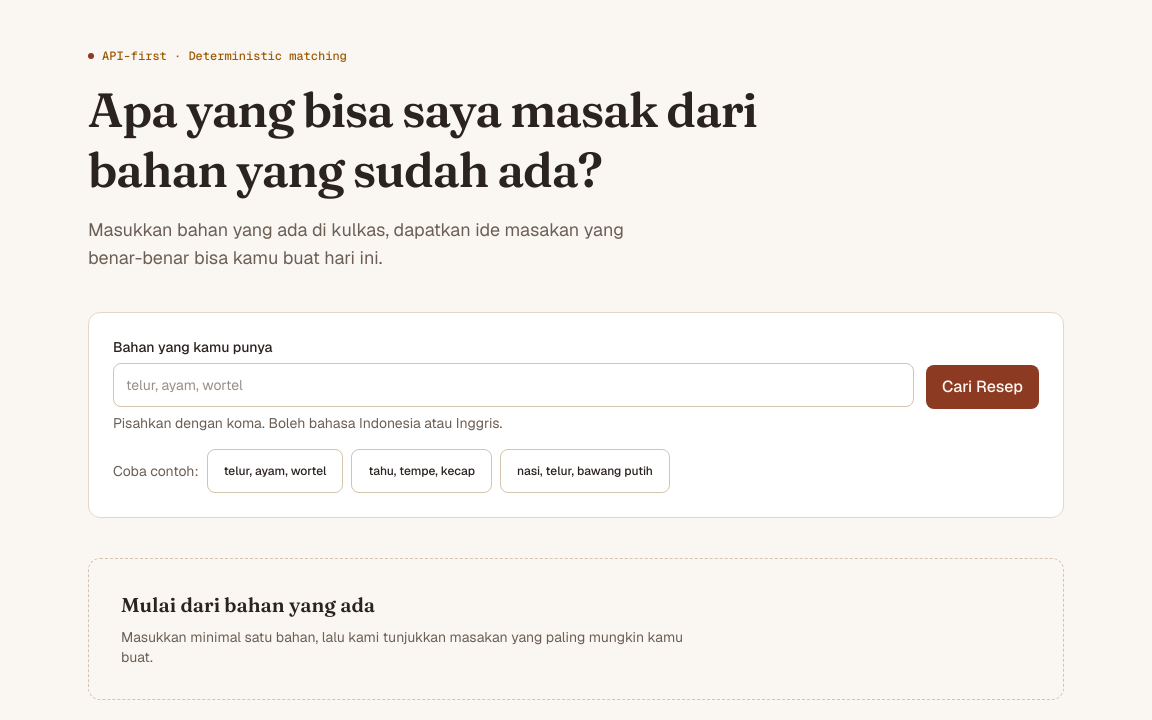
Test: Halaman utama › error state muncul saat request gagal, retry mengulang request
The width and height of the screenshot is (1152, 720).
Type "telur, ayam" into the field labelled "Bahan yang kamu punya" at [513, 385], box [113,363,914,407]
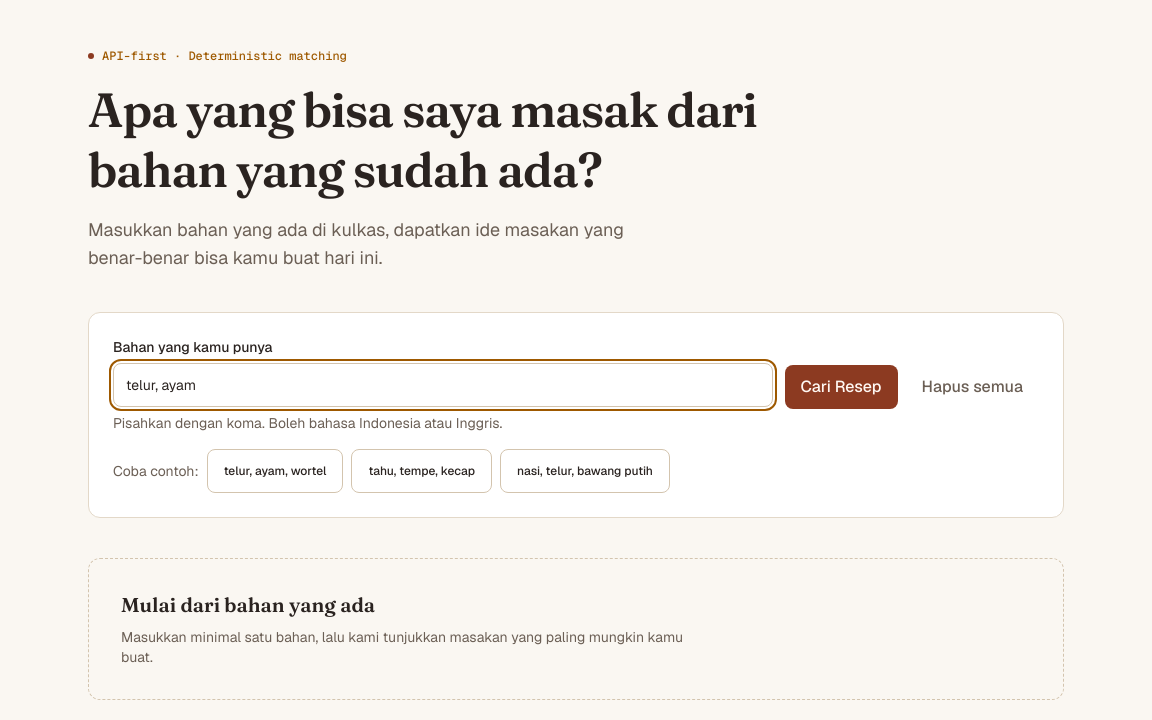
Click the button "Cari Resep" at [841, 387], box [784,365,898,409]
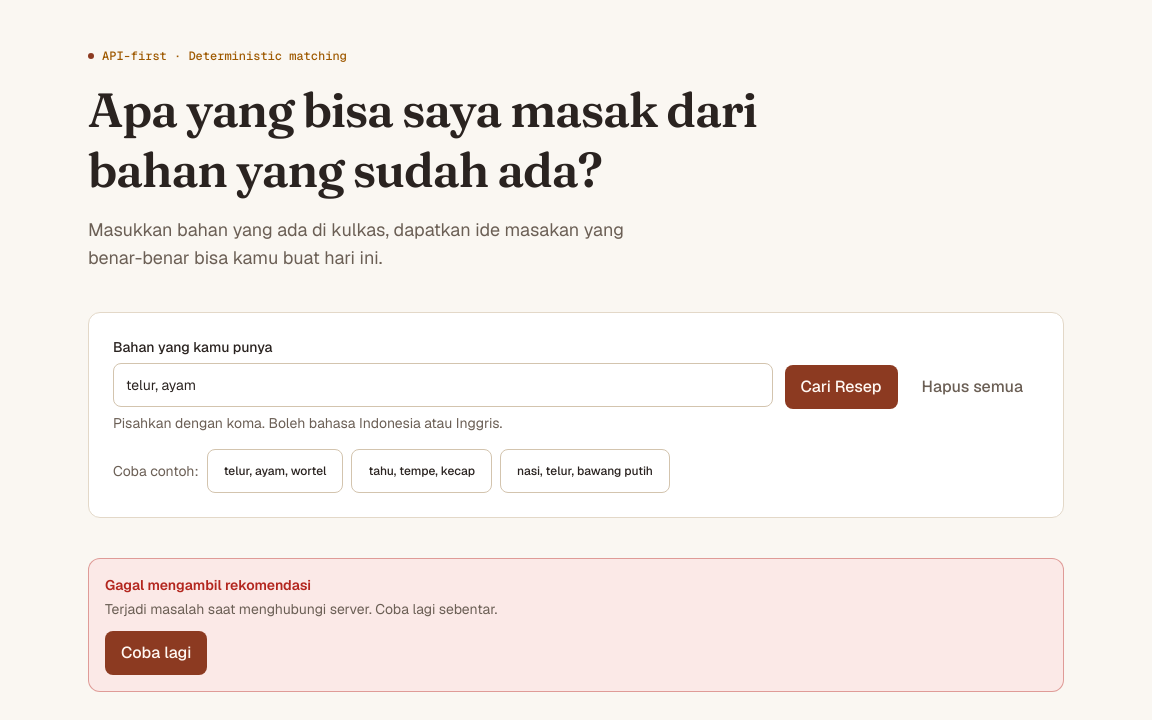
Expected: the text "Gagal mengambil rekomendasi" is shown, [105,576,311,594]
Click the button "Coba lagi" at [156, 653], box [105,631,207,675]
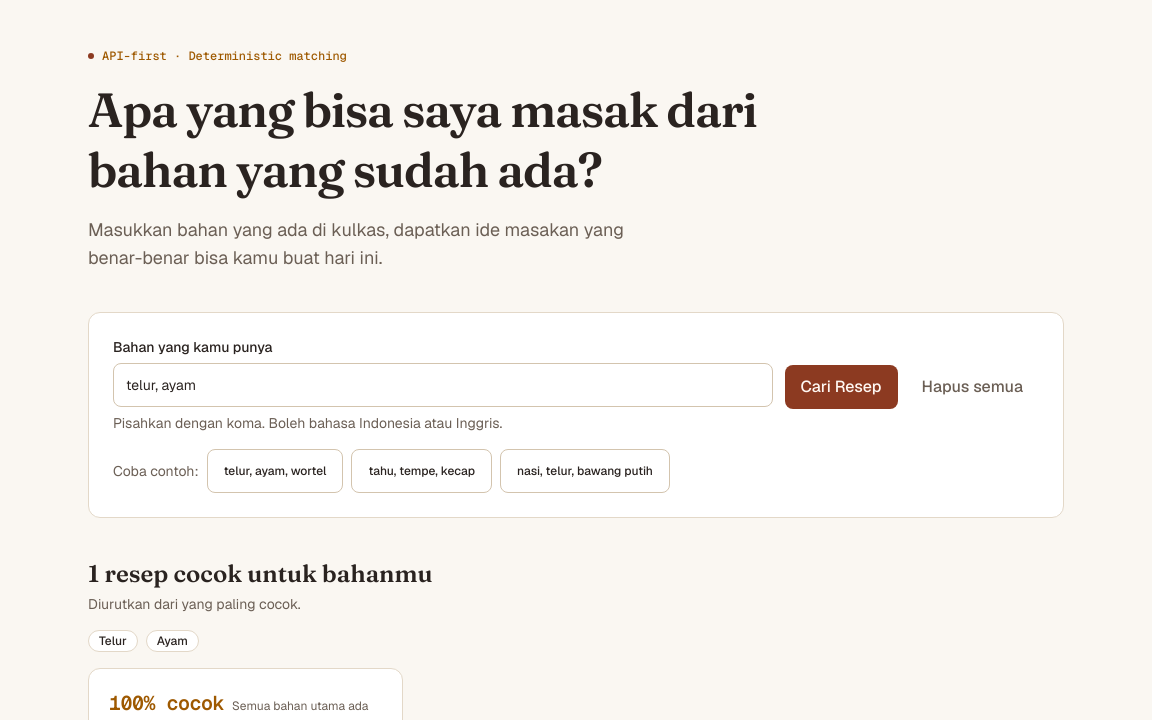
Expected: the heading "1 resep cocok untuk bahanmu" is shown, [88,559,433,588]
